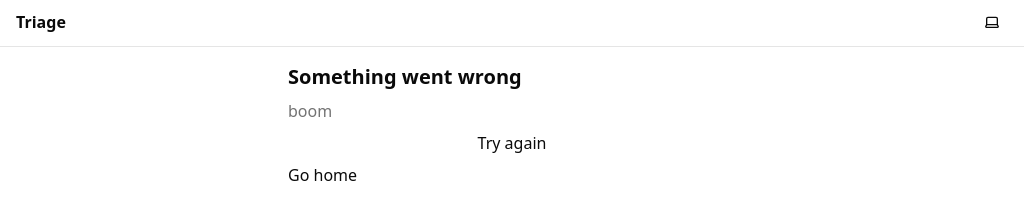
Scenario: try again reruns the failed loader
Click the button "Try again" at (512, 143), box x1=288 y1=131 x2=736 y2=155
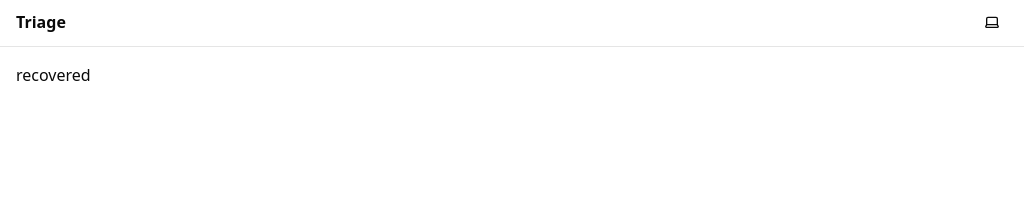
Expected: the text "recovered" is shown, x1=16 y1=64 x2=91 y2=86
